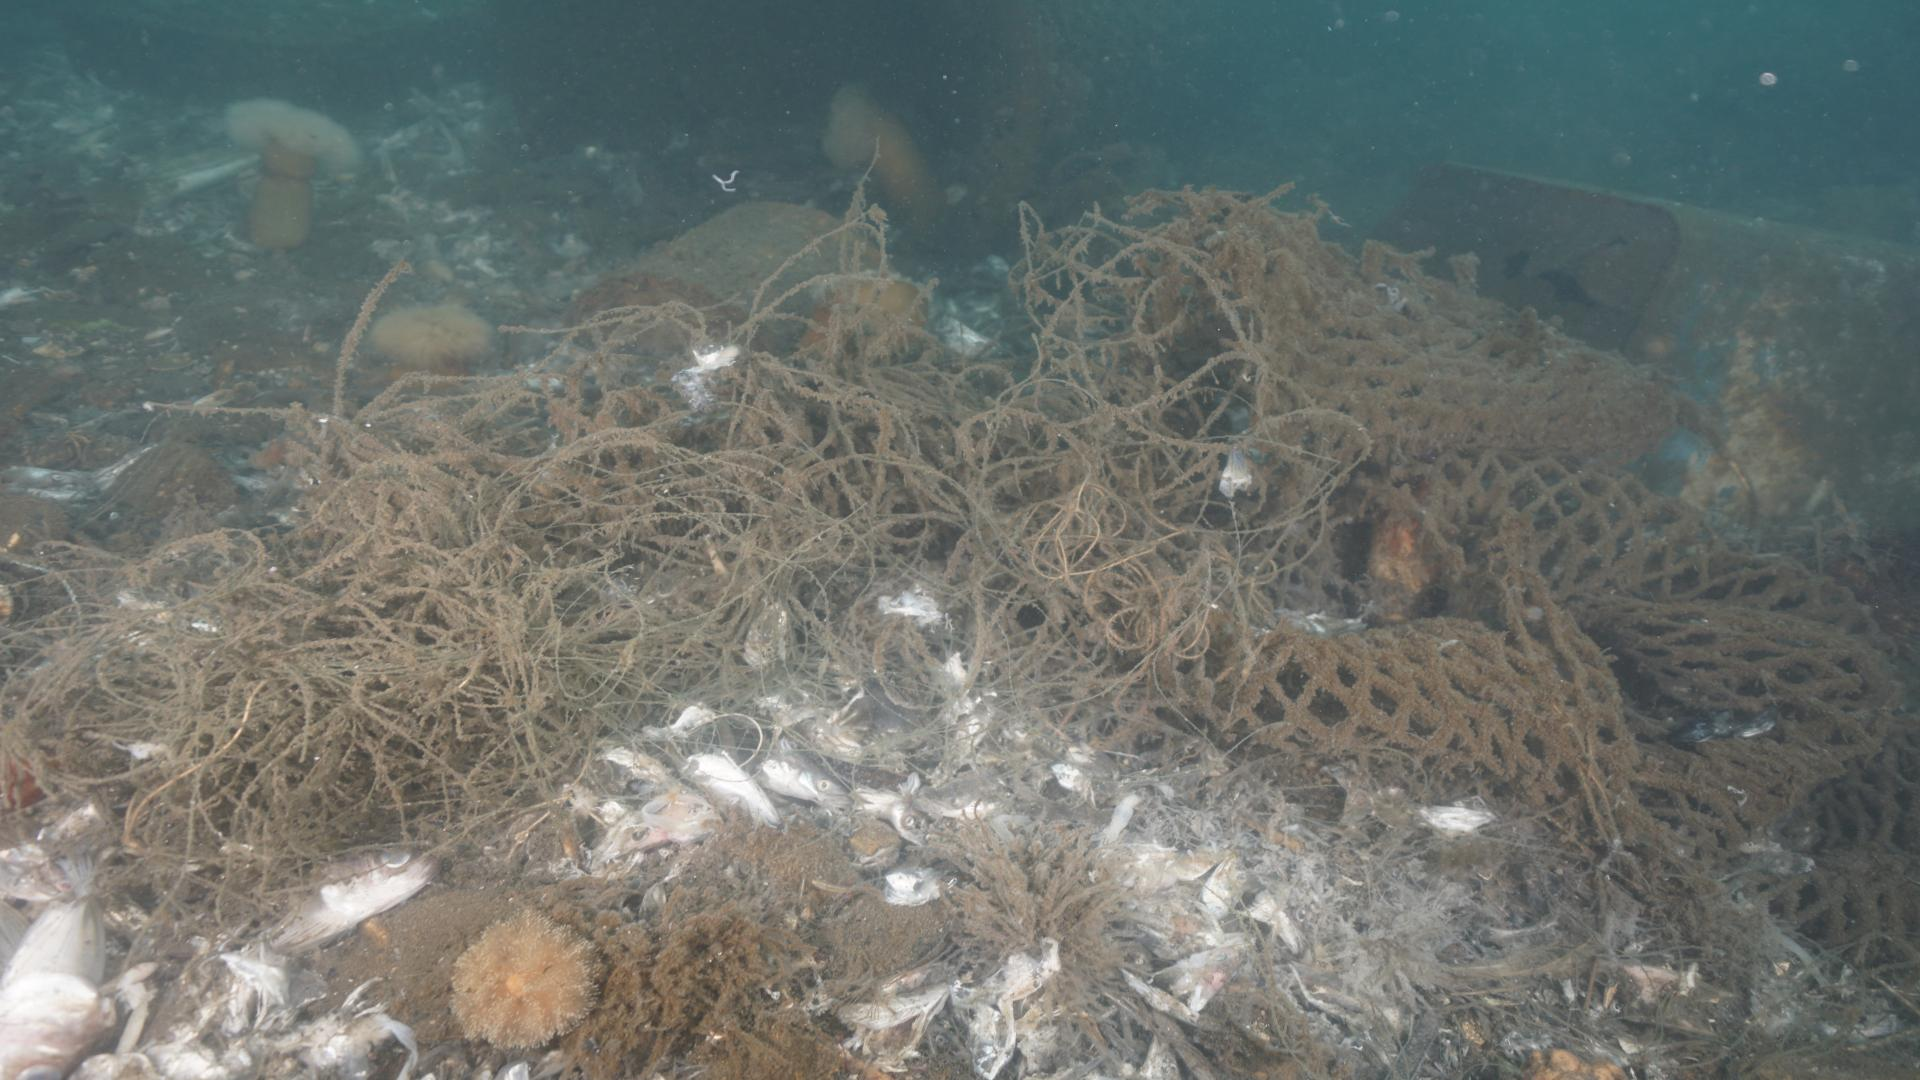fish net: (1120, 260, 1917, 975)
